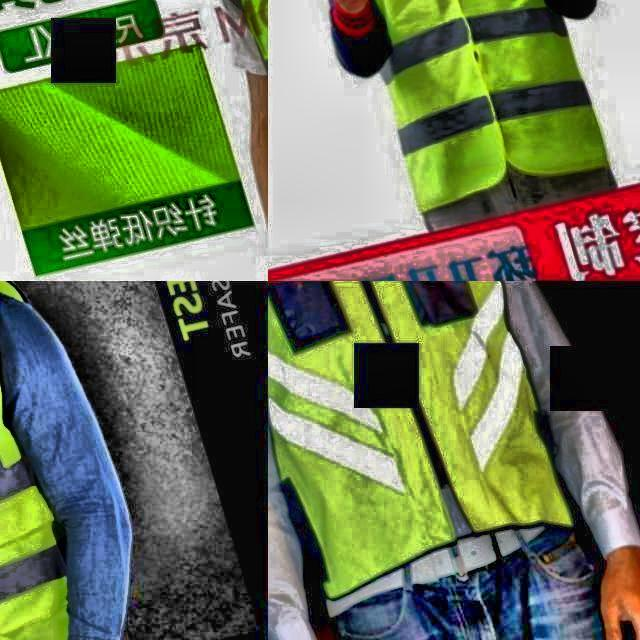safety_jacket: (268, 281, 582, 606), (312, 0, 610, 212), (0, 281, 79, 640), (207, 0, 268, 257)
